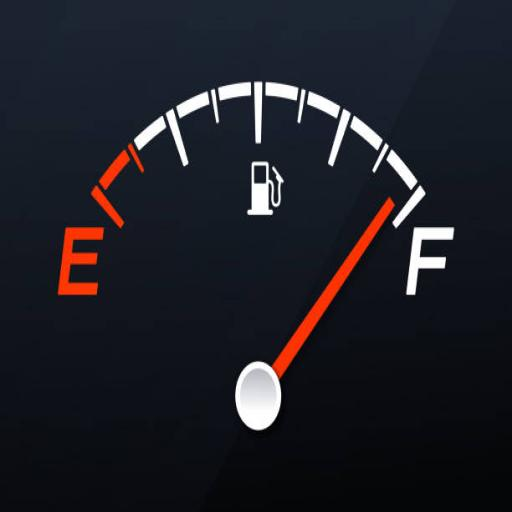empty: (52, 217, 108, 304)
fuel_icon: (243, 152, 286, 225)
full: (405, 222, 459, 298)
guage_area: (39, 60, 486, 478)
needle_center: (226, 336, 290, 455)
needle_tip: (370, 191, 399, 221)
